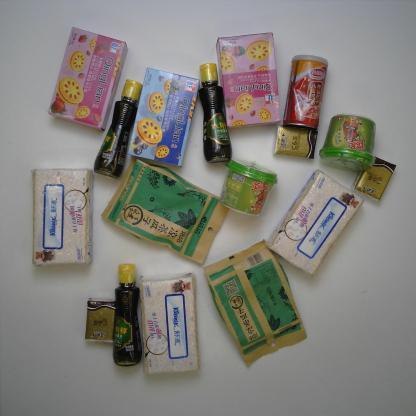Canned Food: (282, 53, 330, 129)
Dessert: (47, 25, 129, 131), (127, 67, 201, 167), (216, 31, 282, 127)
Dried Food: (100, 155, 230, 265), (202, 238, 308, 368)
Instant Drink: (219, 158, 279, 218), (319, 112, 377, 172)
Seasoner: (92, 78, 144, 180), (198, 62, 233, 164), (111, 262, 144, 368)
Tissue: (264, 168, 365, 278), (138, 270, 202, 376), (29, 166, 94, 267), (348, 155, 397, 202), (272, 124, 318, 160), (84, 298, 116, 345)
